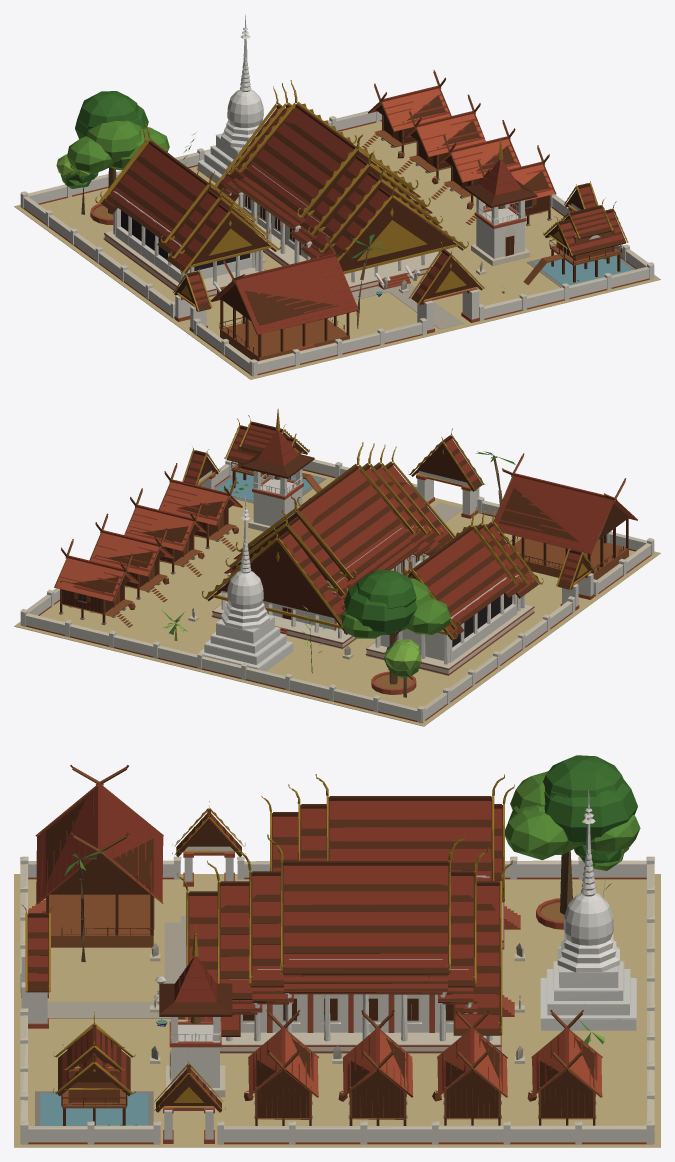
File: temple_3.glb
3 views of the same model, one above another, from view 1: azimuth 30°, elevation 25°; view 2: azimuth 150°, elevation 25°; view 3: azimuth 270°, elevation 25° (orthographic). The views are drawn at different scales.
Parts seen in each view (by area): view 1: body; view 2: body; view 3: body.
Part boxes in pixels (x1,y1,x2,y2): body: (14, 14, 660, 379); body: (14, 408, 660, 726); body: (14, 755, 660, 1147).
Bounding box in the file's own units: 47.9 × 18.23 × 47.9.
